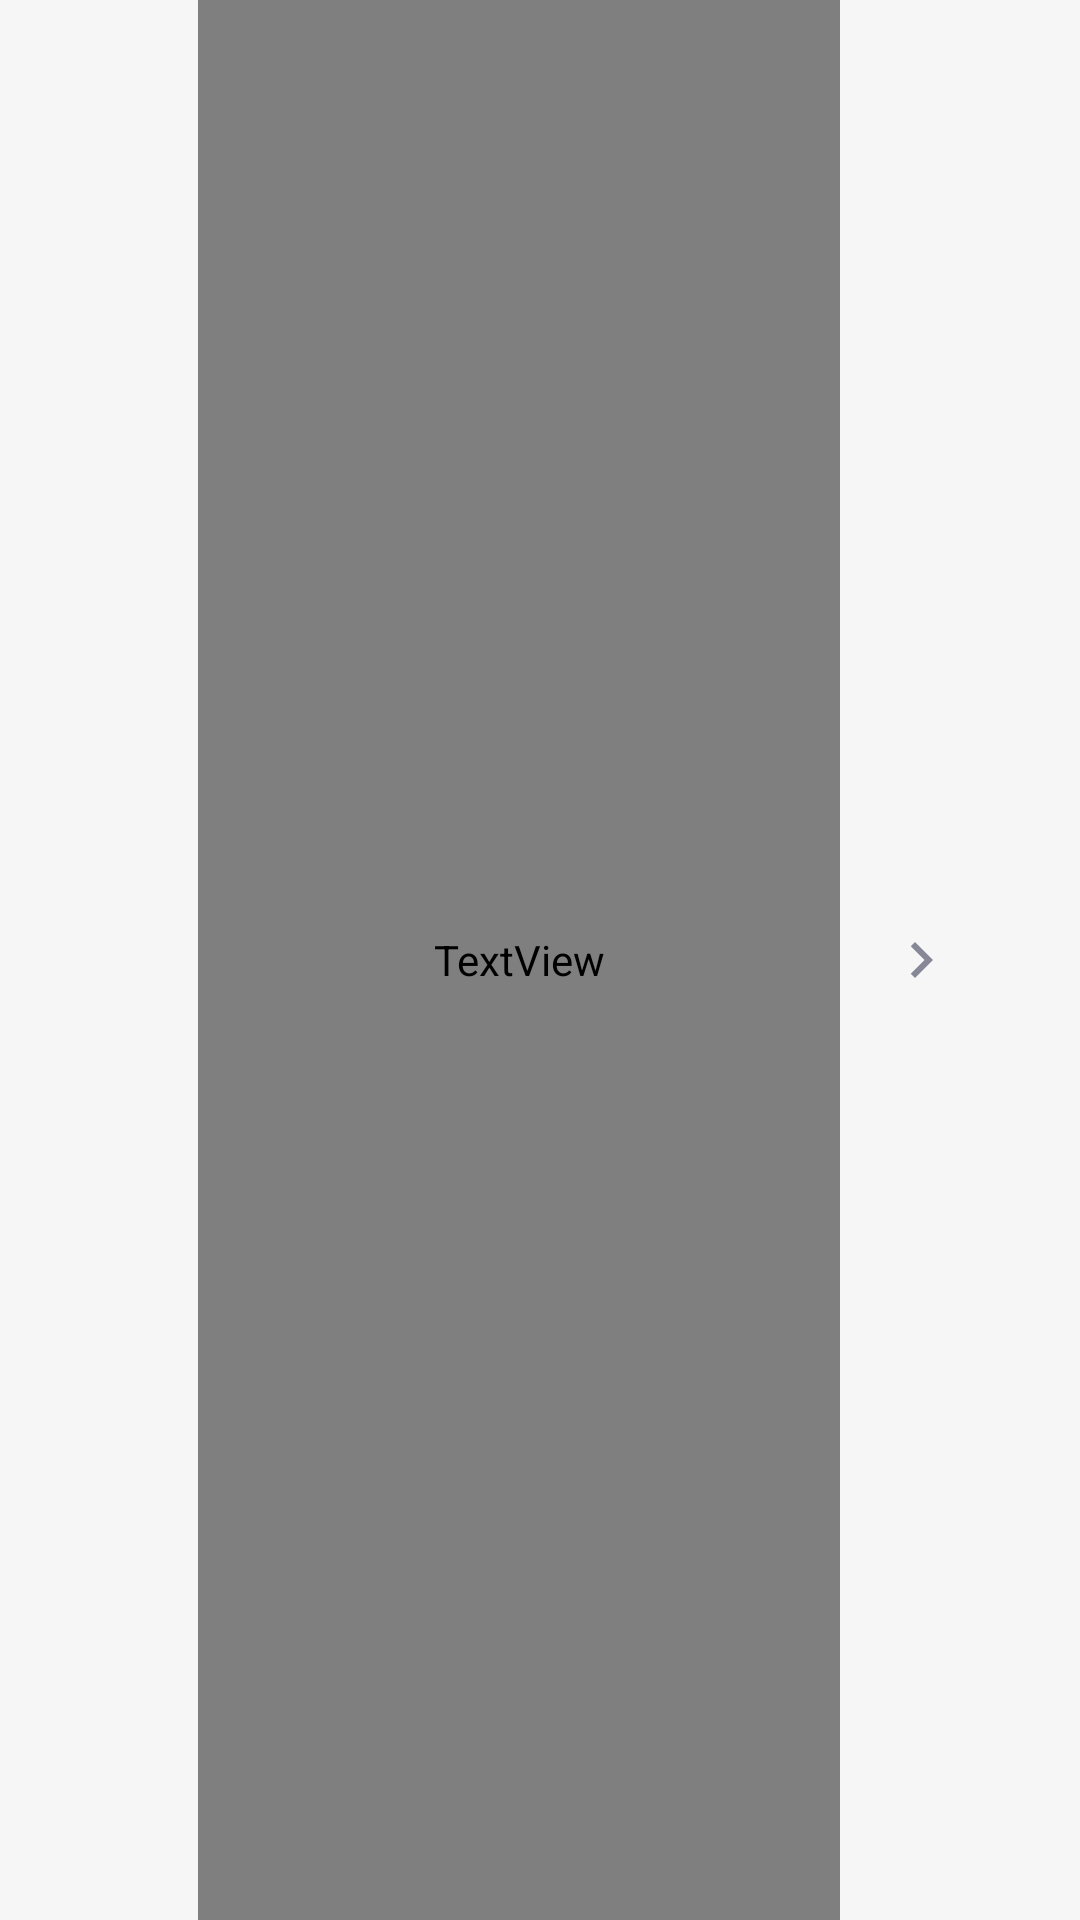

Icons on this 1080×1920 Android screen, each with its box as (x1, y1, x2, y2):
disclosure indicator: (911, 942, 933, 978)
